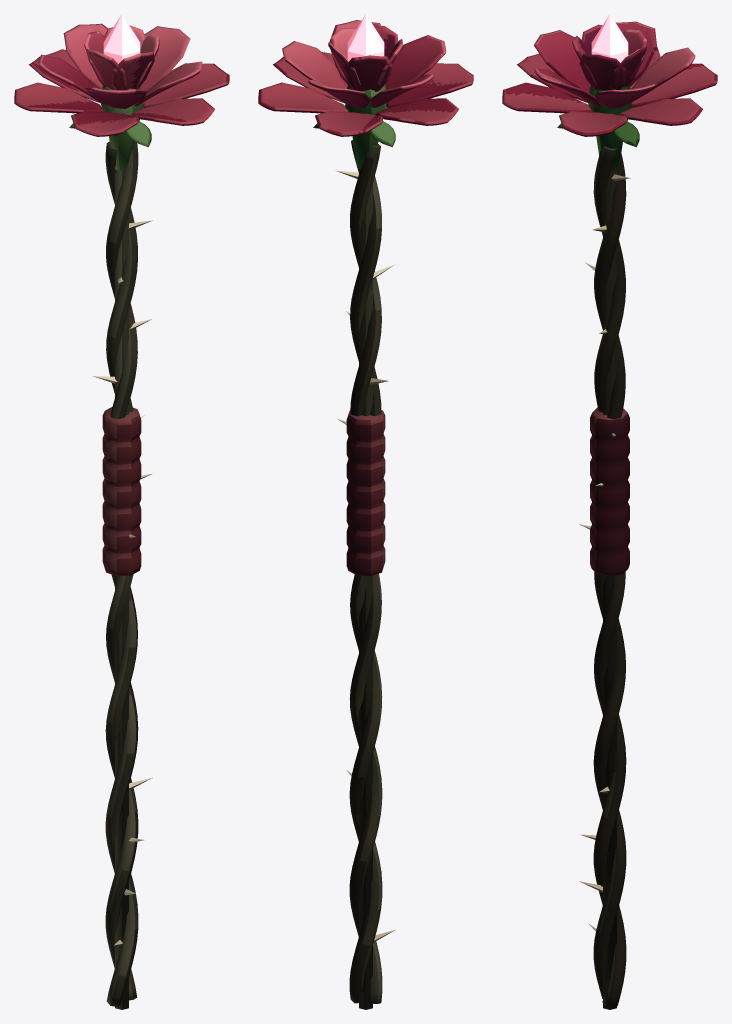
Rendered from st_thorn_staff.glb.
The picture shows the model from 3 angles, left to right: view 1: azimuth 30°, elevation 25°; view 2: azimuth 150°, elevation 25°; view 3: azimuth 270°, elevation 25°; orthographic projection.
Visible parts, largest first — view 1: Weapon; view 2: Weapon; view 3: Weapon.
Part boxes in pixels (x1,y1,x2,y2): Weapon: [14, 14, 229, 1009]; Weapon: [258, 14, 473, 1009]; Weapon: [502, 14, 717, 1009].
Size of the model in its own units: 0.3324 by 1.66 by 0.3257.
